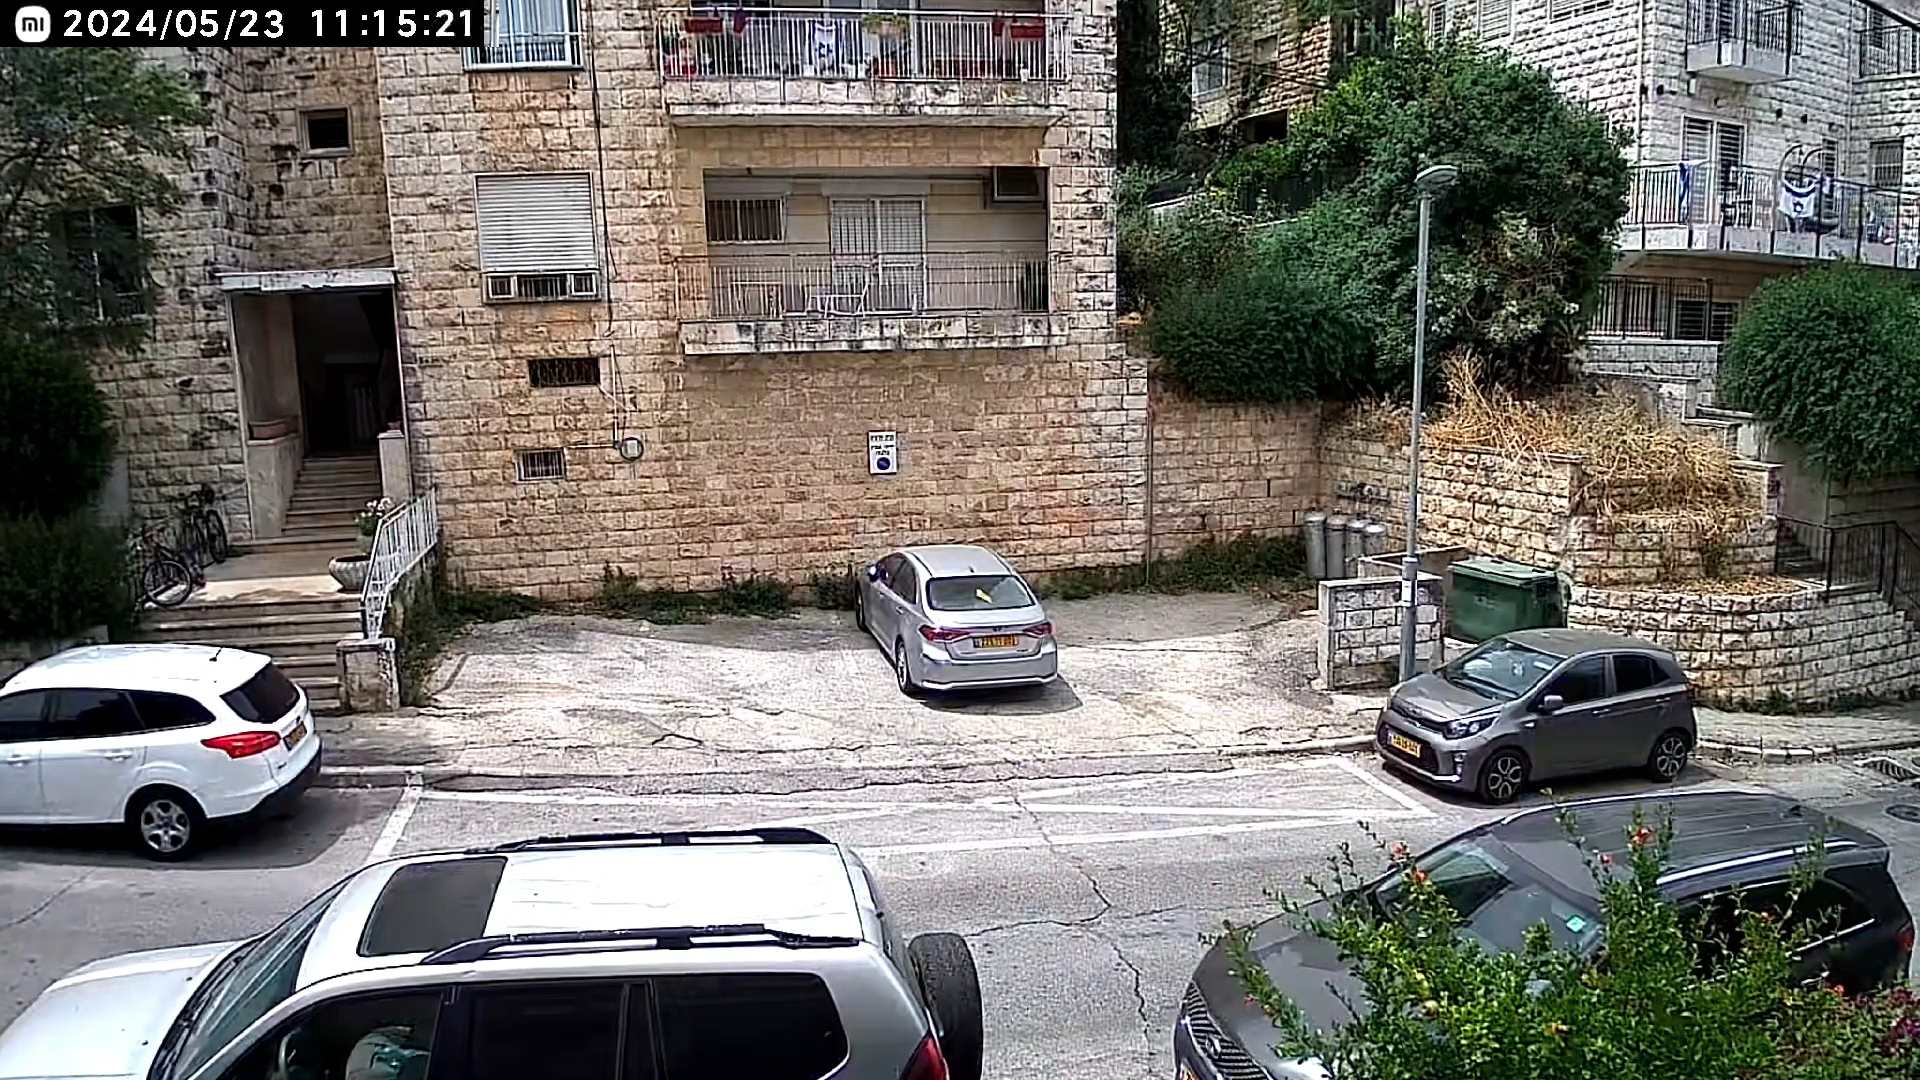moving_car: (487, 473, 856, 665)
